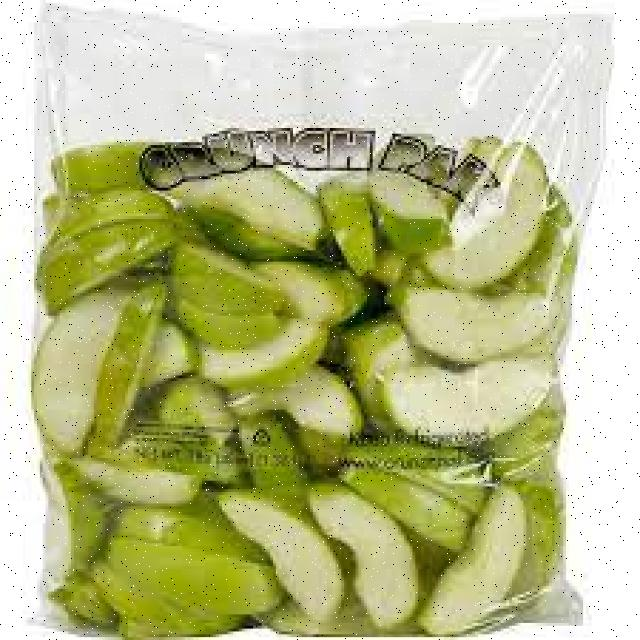Apple: (225, 484, 338, 624), (318, 479, 420, 621), (380, 358, 544, 445), (189, 158, 317, 244), (446, 479, 521, 622), (395, 275, 548, 345), (38, 298, 101, 452), (43, 222, 166, 299), (232, 371, 366, 441), (72, 447, 199, 512), (275, 256, 380, 333), (106, 294, 157, 444), (174, 249, 274, 315), (52, 135, 174, 189), (199, 331, 337, 373), (117, 509, 237, 553), (58, 487, 98, 583)
